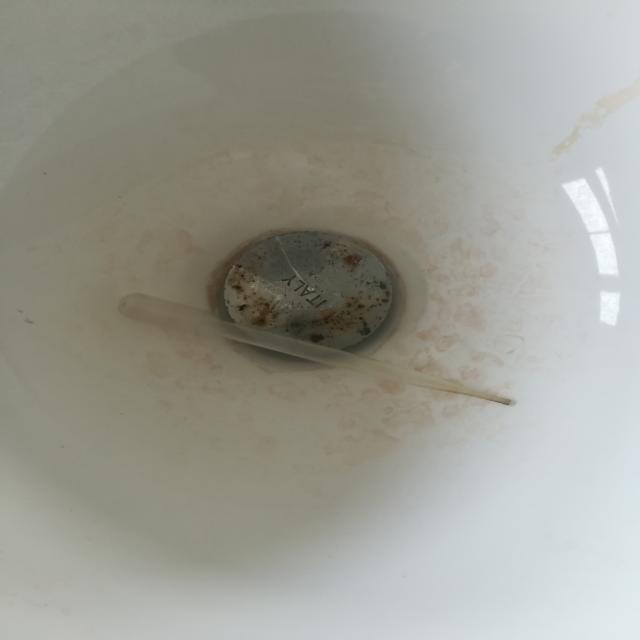Pipette: (50, 253, 542, 464)
